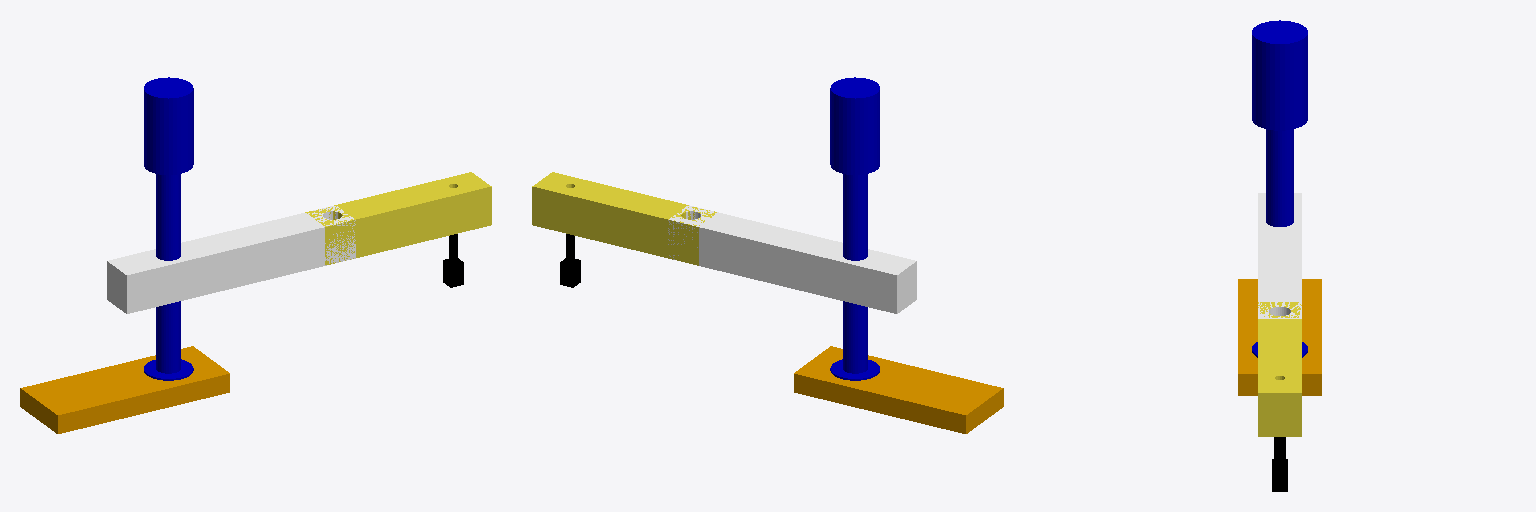
The robot description file, URDF, robot "multipleshapes":
<?xml version="1.0"?>
<robot name="multipleshapes">

  <material name="blue">
    <color rgba="0 0 0.8 1"/>
  </material>
    <material name="black">
    <color rgba="0 0 0 1"/>
  </material>
  <material name="white">
    <color rgba="1 1 1 1"/>
  </material>

  <link name="base_link">
    <visual>
      <geometry>
        <mesh filename="package://my_robot_description/meshes/my_robot/base_link.STL"/>
      </geometry>
    </visual>
    <collision>
      <geometry>
          <mesh filename="package://my_robot_description/meshes/my_robot/base_link.STL" />
      </geometry>
    </collision>
  </link>

  <link name="link1">
    <visual>
      <geometry>
        <mesh filename="package://my_robot_description/meshes/my_robot/link1.STL"/>
      </geometry>
      <!-- <origin rpy="0 0 0" xyz="0.25 0.025 0.01"/> -->
      <origin rpy="0 0 0" xyz="-0.05 -0.05 0"/>
      <material name="blue"/>
    </visual>
    <collision>
      <geometry>
        <mesh filename="package://my_robot_description/meshes/my_robot/link1.STL"/>
      </geometry>
      <origin rpy="0 0 0" xyz="-0.05 -0.05 0"/>
    </collision>
  </link>

  <joint name="base_to_link1" type="revolute">
    <safety_controller k_position="100.0" k_velocity="40.0" soft_lower_limit="-3.0718" soft_upper_limit="3.0718" />
    <axis xyz="0 0 1"/>
    <limit effort="1000.0" lower="-3.14" upper="3.14" velocity="0.5"/>
    <origin rpy="0 0 0" xyz="0.3 0.075 0.01"/>
    <parent link="base_link"/>
    <child link="link1"/>
  </joint>

  <link name="link2">
    <visual>
      <geometry>
        <mesh filename="package://my_robot_description/meshes/my_robot/link2.STL"/>
      </geometry>
      <!-- <origin rpy="0 0 0" xyz="0.25 0.025 0.01"/> -->
      <origin rpy="0 0 0" xyz="0 0 0"/>
      <material name="white"/>
    </visual>
    <collision>
      <geometry>
        <mesh filename="package://my_robot_description/meshes/my_robot/link2.STL"/>
      </geometry>
      <origin rpy="0 0 0" xyz="0 0 0"/>
    </collision>
  </link>

  <joint name="link1_to_link2" type="prismatic">
    <safety_controller k_position="100.0" k_velocity="40.0" soft_lower_limit="-0.13" soft_upper_limit="0.18" />
    <axis xyz="0 0 1"/>
    <parent link="link1"/>
    <child link="link2"/>
    <limit effort="1000.0" lower="-0.14" upper="0.19" velocity="0.5"/>
    <origin rpy="0 0 0" xyz="-0.12 -0.04 0.2"/>
  </joint>

  <link name="link3">
    <visual>
      <geometry>
        <mesh filename="package://my_robot_description/meshes/my_robot/link3.STL"/>
      </geometry>
      <!-- <origin rpy="0 0 0" xyz="0.25 0.025 0.01"/> -->
      <origin rpy="0 0 0" xyz="-0.04 -0.04 0"/>
      <!-- <material name="white"/> -->
    </visual>
    <collision>
      <geometry>
        <mesh filename="package://my_robot_description/meshes/my_robot/link3.STL"/>
      </geometry>
      <origin rpy="0 0 0" xyz="-0.04 -0.04 0"/>
    </collision>
  </link>

  <joint name="link2_to_link3" type="revolute">
    <safety_controller k_position="100.0" k_velocity="40.0" soft_lower_limit="-1.4" soft_upper_limit="1.4" />
    <axis xyz="0 0 1"/>
    <limit effort="1000.0" lower="-1.5" upper="1.5" velocity="0.5"/>
    <origin rpy="0 0 0" xyz="0.5 0.04 0"/>
    <parent link="link2"/>
    <child link="link3"/>
  </joint>

  <link name="link4">
    <visual>
      <geometry>
        <mesh filename="package://my_robot_description/meshes/my_robot/link4.STL"/>
      </geometry>
      <!-- <origin rpy="0 0 0" xyz="0.25 0.025 0.01"/> -->
      <origin rpy="0 3.14159 0" xyz="0.015 -0.015 0"/>
      <material name="black"/>
    </visual>
    <collision>
      <geometry>
        <mesh filename="package://my_robot_description/meshes/my_robot/link4.STL"/>
      </geometry>
      <origin rpy="0 3.14159 0" xyz="0.015 -0.015 0"/>
    </collision>
  </link>

  <joint name="link3_to_link4" type="revolute">
    <safety_controller k_position="100.0" k_velocity="40.0" soft_lower_limit="-3.15" soft_upper_limit="3.15" />
    <axis xyz="0 0 1"/>
    <limit effort="1000.0" lower="-3.5" upper="3.5" velocity="0.5"/>
    <origin rpy="0 0 0" xyz="0.28 0 0"/>
    <parent link="link3"/>
    <child link="link4"/>
  </joint>

</robot>

--- Render facts (derived) ---
3 views of the same robot in one strip: view 1: azimuth 30°, elevation 25°; view 2: azimuth 150°, elevation 25°; view 3: azimuth 270°, elevation 25° (orthographic).
Model multipleshapes with 5 links and 4 joints (3 revolute, 1 prismatic), rooted at base_link, posed every joint at zero.
Links seen in each view (by area): view 1: link2, base_link, link1, link3, link4; view 2: link2, link3, base_link, link1, link4; view 3: link1, link3, base_link, link2, link4.
Boxes of the visible links, x1,y1,x2,y2 form: link2: [107, 206, 355, 313]; base_link: [20, 346, 229, 433]; link1: [144, 77, 193, 380]; link3: [305, 172, 491, 264]; link4: [443, 234, 463, 287]; link2: [668, 205, 916, 313]; link3: [532, 172, 716, 265]; base_link: [794, 346, 1003, 433]; link1: [830, 77, 879, 380]; link4: [560, 234, 580, 287]; link1: [1252, 20, 1307, 357]; link3: [1258, 302, 1301, 436]; base_link: [1238, 279, 1321, 395]; link2: [1258, 193, 1301, 318]; link4: [1272, 437, 1287, 491].
Bounding box of the posed robot: 1.02 × 0.15 × 0.667 m (x, y, z).
Meshes: 5 distinct files referenced, 5 mesh visuals loaded (5 binary STL).